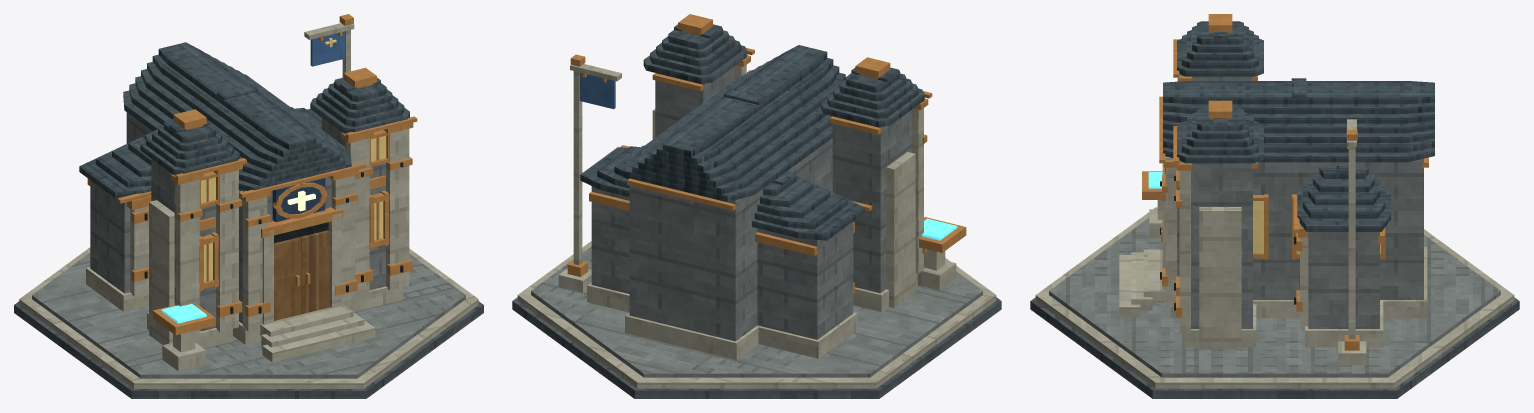
Rendered from dwarf_sacred_ritual_hex_v1.glb.
3 renders of one model, left to right at view 1: azimuth 30°, elevation 25°; view 2: azimuth 150°, elevation 25°; view 3: azimuth 270°, elevation 25°, orthographic. The views are drawn at different scales.
Visible parts, largest first — view 1: Dwarf_Sacred_Ritual_Hex_V1_Foundation, Dwarf_Sacred_Ritual_Hex_V1_Roofs, Dwarf_Sacred_Ritual_Hex_V1_Details, Dwarf_Sacred_Ritual_Hex_V1_Hall, Dwarf_Sacred_Ritual_Hex_V1_Courtyard, Dwarf_Sacred_Ritual_Hex_V1_Training, Dwarf_Sacred_Ritual_Hex_V1_Faction, Dwarf_Sacred_Ritual_Hex_V1_Focus; view 2: Dwarf_Sacred_Ritual_Hex_V1_Hall, Dwarf_Sacred_Ritual_Hex_V1_Roofs, Dwarf_Sacred_Ritual_Hex_V1_Foundation, Dwarf_Sacred_Ritual_Hex_V1_Details, Dwarf_Sacred_Ritual_Hex_V1_Faction, Dwarf_Sacred_Ritual_Hex_V1_Training; view 3: Dwarf_Sacred_Ritual_Hex_V1_Foundation, Dwarf_Sacred_Ritual_Hex_V1_Hall, Dwarf_Sacred_Ritual_Hex_V1_Roofs, Dwarf_Sacred_Ritual_Hex_V1_Details, Dwarf_Sacred_Ritual_Hex_V1_Courtyard, Dwarf_Sacred_Ritual_Hex_V1_Faction, Dwarf_Sacred_Ritual_Hex_V1_Training.
Boxes of the visible parts, x1,y1,x2,y2 form: Dwarf_Sacred_Ritual_Hex_V1_Foundation: (14, 247, 483, 398); Dwarf_Sacred_Ritual_Hex_V1_Roofs: (79, 42, 417, 203); Dwarf_Sacred_Ritual_Hex_V1_Details: (87, 111, 413, 337); Dwarf_Sacred_Ritual_Hex_V1_Hall: (86, 112, 403, 348); Dwarf_Sacred_Ritual_Hex_V1_Courtyard: (260, 304, 375, 362); Dwarf_Sacred_Ritual_Hex_V1_Training: (152, 304, 215, 371); Dwarf_Sacred_Ritual_Hex_V1_Faction: (304, 14, 354, 77); Dwarf_Sacred_Ritual_Hex_V1_Focus: (272, 178, 327, 222); Dwarf_Sacred_Ritual_Hex_V1_Hall: (587, 67, 917, 359); Dwarf_Sacred_Ritual_Hex_V1_Roofs: (580, 14, 932, 240); Dwarf_Sacred_Ritual_Hex_V1_Foundation: (512, 241, 1001, 398); Dwarf_Sacred_Ritual_Hex_V1_Details: (589, 55, 928, 293); Dwarf_Sacred_Ritual_Hex_V1_Faction: (558, 54, 621, 292); Dwarf_Sacred_Ritual_Hex_V1_Training: (917, 217, 966, 290); Dwarf_Sacred_Ritual_Hex_V1_Foundation: (1030, 207, 1519, 398); Dwarf_Sacred_Ritual_Hex_V1_Hall: (1162, 76, 1427, 349); Dwarf_Sacred_Ritual_Hex_V1_Roofs: (1159, 14, 1434, 232); Dwarf_Sacred_Ritual_Hex_V1_Details: (1160, 74, 1428, 333); Dwarf_Sacred_Ritual_Hex_V1_Courtyard: (1119, 249, 1164, 316); Dwarf_Sacred_Ritual_Hex_V1_Faction: (1338, 119, 1366, 365); Dwarf_Sacred_Ritual_Hex_V1_Training: (1142, 171, 1162, 238).
Bounding box in the file's own units: 1.59 × 1.02 × 1.84.
1 material, 1 textured.
